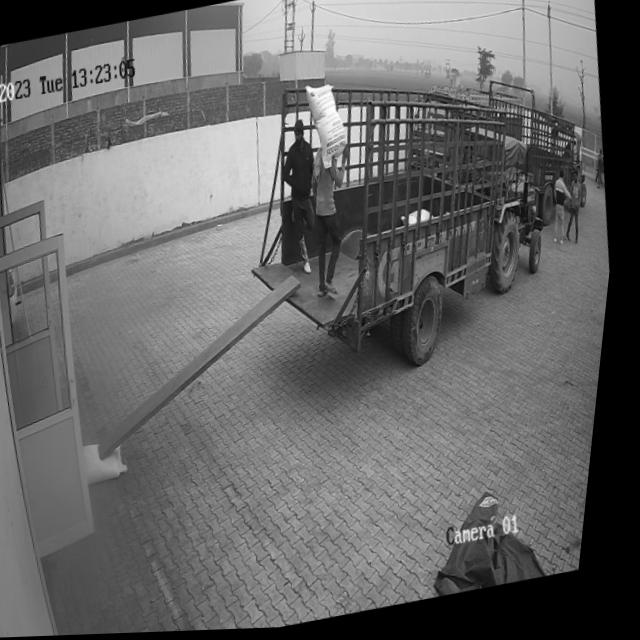sack: (299, 80, 358, 175), (90, 439, 141, 487)
